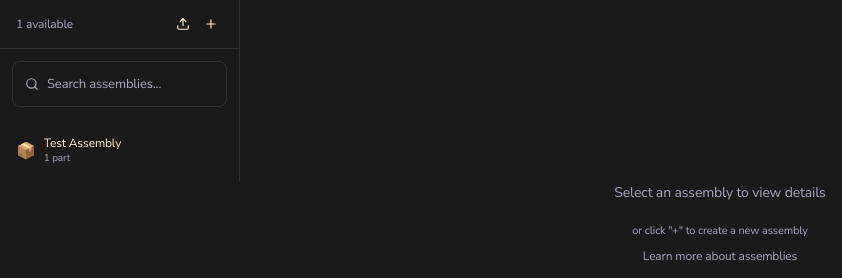
Test: AssembliesTab › search › clears search with clear button
Type "test" into the field with placeholder "Search assemblies..." at (130, 84), box top-left (47, 70), bottom-right (214, 98)
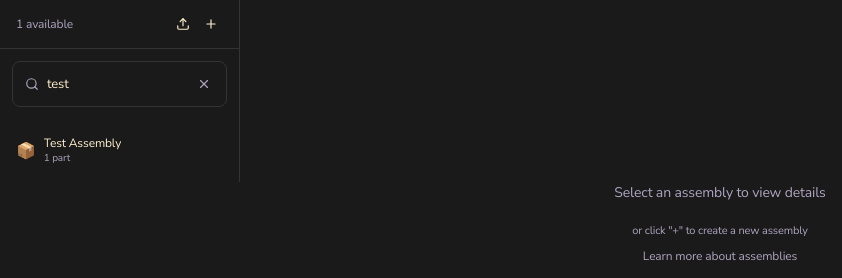
Click the button named "Clear search" at (204, 84), box top-left (194, 74), bottom-right (214, 94)
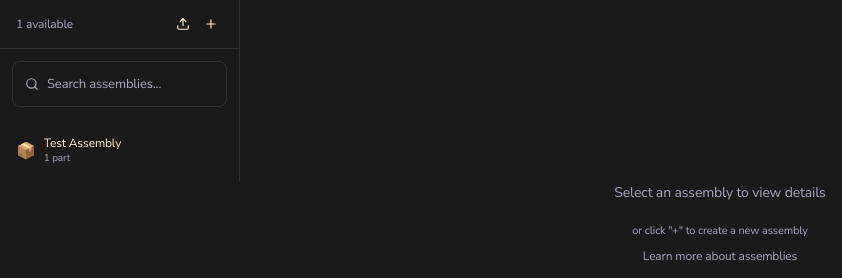
Expected: the field with placeholder "Search assemblies..." is empty, top-left (47, 70), bottom-right (214, 98)
